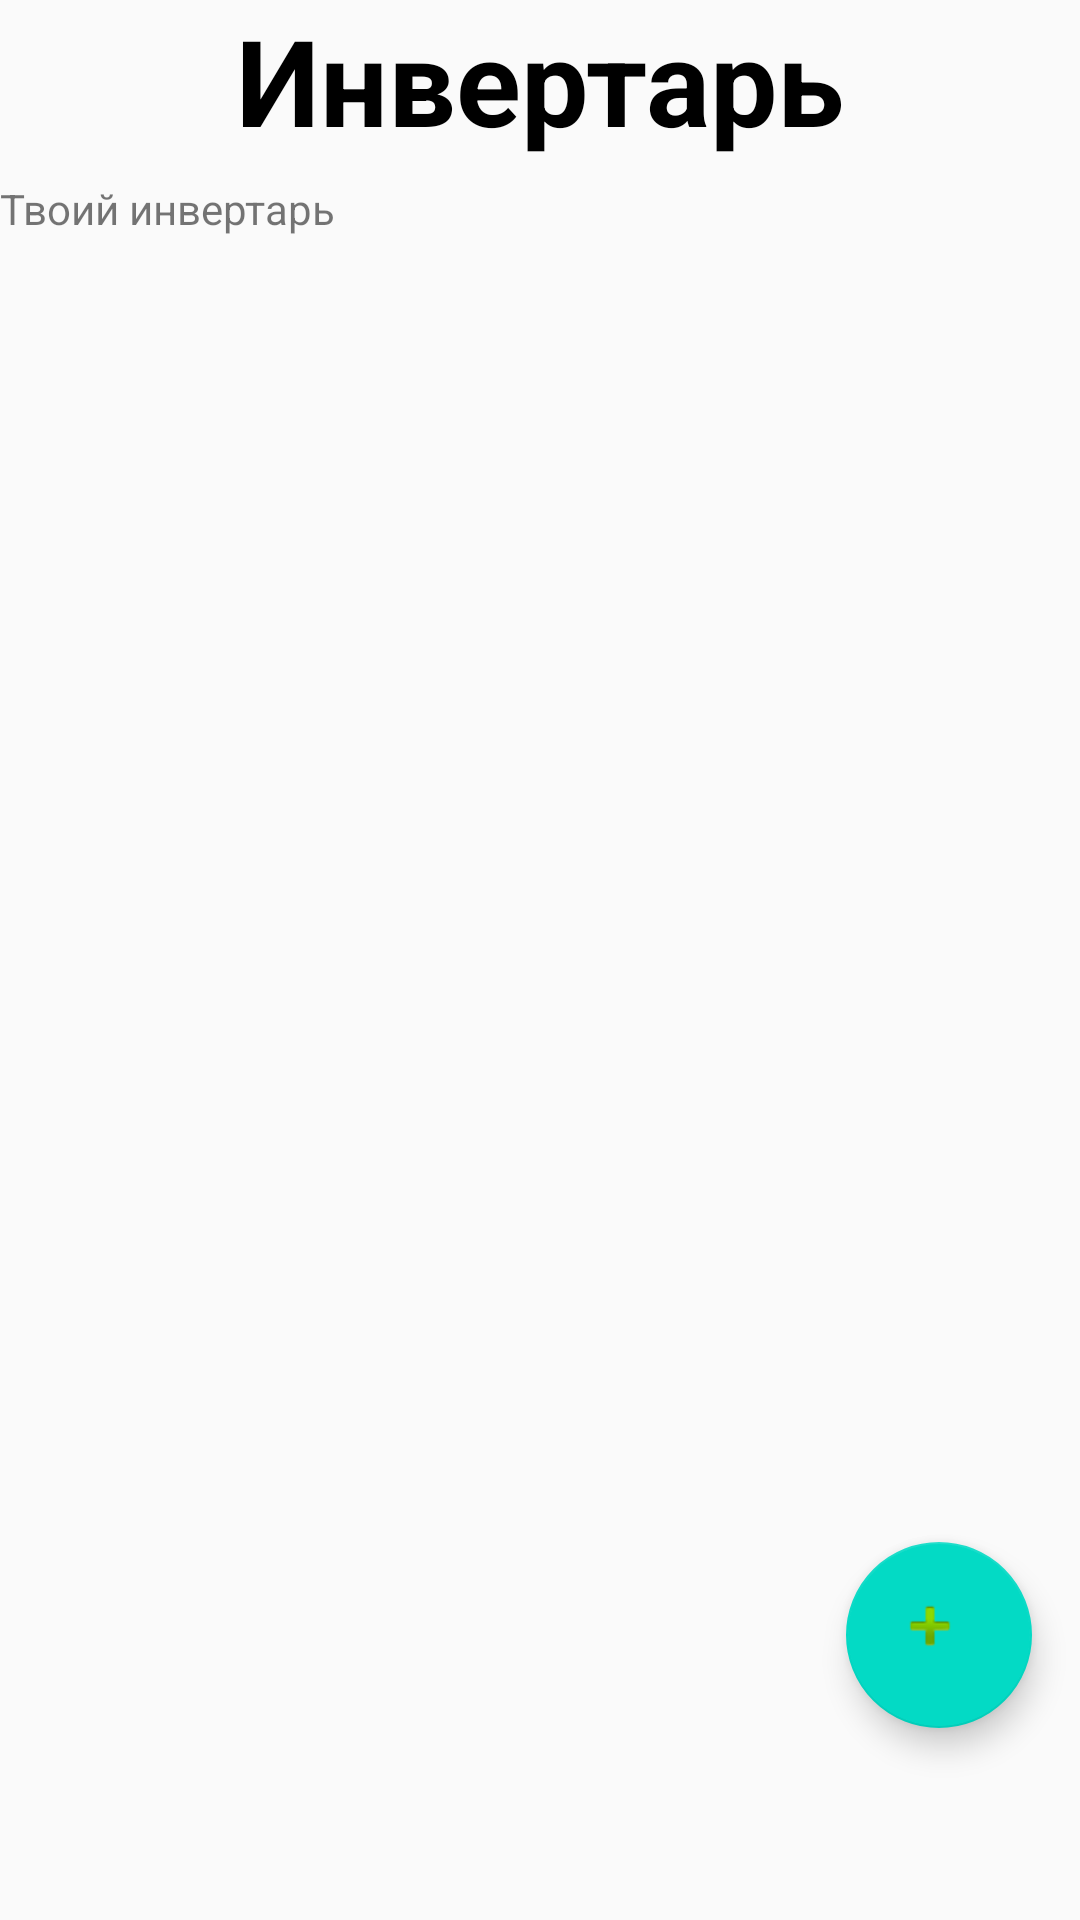

Icon bounding boxes for this 1080 × 1920 phone screenshot, format (x1, y1, x2, y2):
add: (846, 1542, 1032, 1728)
